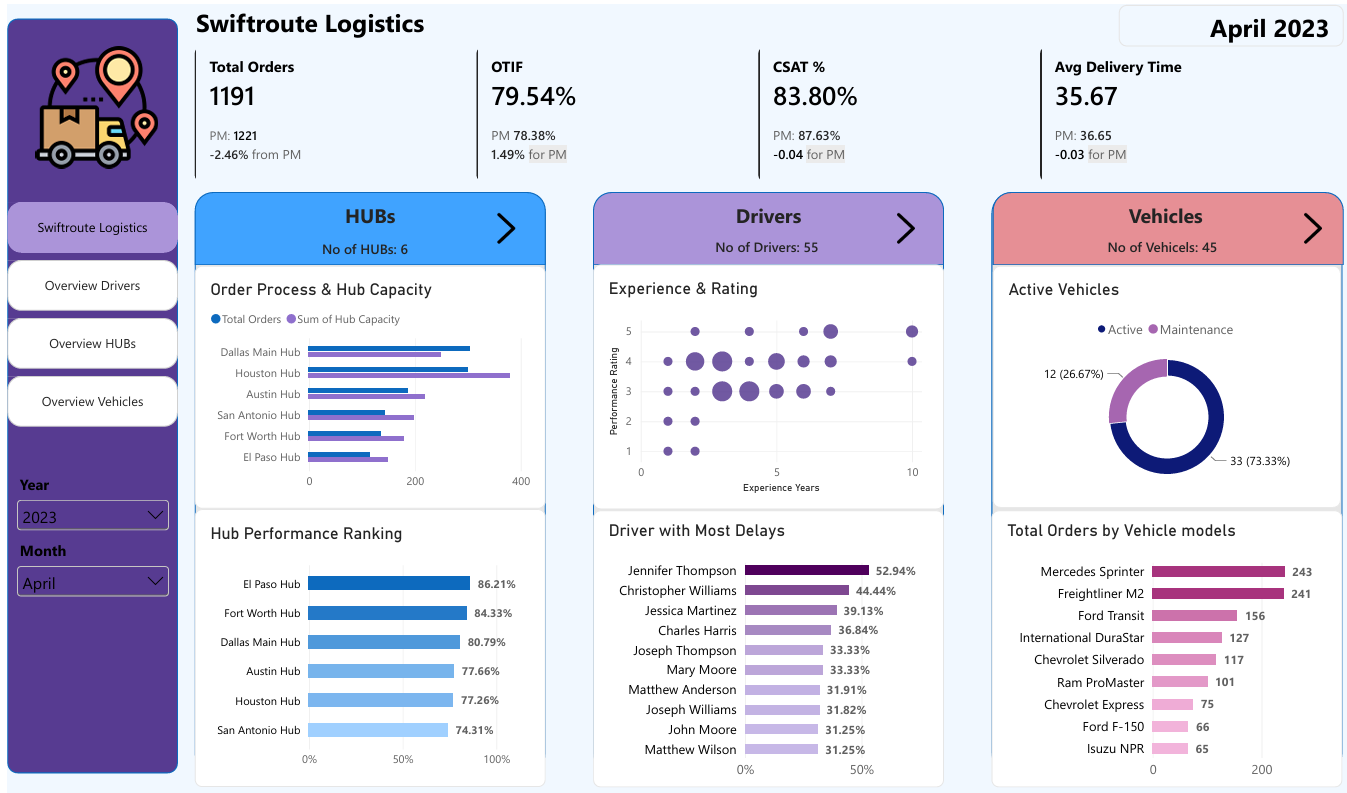

The page's visual inventory and layout, read from the dashboard file:
{"tool":"powerbi","page":{"name":"Swiftroute Logistics","canvas":[1450,850],"ordinal":0},"visuals":[{"type":"shape","box":[0,14.9,185,820],"z":0},{"type":"textbox","box":[204.8,0,248.2,44.8],"z":1000},{"type":"cardVisual","fields":{"Data":["Measure.Total Orders","Measure.OTIF","Measure.CSAT %","Measure.Avg delivery hour"]},"box":[203.4,44.8,1222.4,148.2],"z":2000},{"type":"slicer","fields":{"Values":["Date.Year"]},"box":[5.7,510,174.9,71.9],"z":3000},{"type":"slicer","fields":{"Values":["Date.Month"]},"box":[5.7,581.4,174.9,71.9],"z":4000},{"type":"shape","box":[203.7,203.7,381,632.4],"z":5000},{"type":"shape","box":[203.7,203.7,381,79.4],"z":6000},{"type":"textbox","box":[203.4,214.3,381.1,29.8],"z":7000},{"type":"cardVisual","fields":{"Data":["Measure.NO of Hubs"]},"box":[325.5,244.1,138.3,39.3],"z":8000},{"type":"clusteredBarChart","title":"Order Process & Hub Capacity","fields":{"Category":["Hubs.HubName"],"Y":["Measure.Total Orders","Sum(Hubs.Hub Capacity)"]},"box":[203.4,283.4,381.1,264.4],"z":9000},{"type":"barChart","title":"Hub Performance Ranking","fields":{"Category":["Hubs.HubName"],"Y":["Measure.OTIF"]},"box":[203.4,547.9,381.1,302.4],"z":10000},{"type":"shape","box":[636,203.4,381,632.4],"z":11000},{"type":"shape","title":"Experience & Rating","box":[1068.6,203.4,381,632.4],"z":12000},{"type":"shape","box":[636,203.4,381,79.4],"z":13000},{"type":"cardVisual","fields":{"Data":["Measure.No of Drivers"]},"box":[752.6,242.7,145.1,39.3],"z":14000},{"type":"textbox","box":[636,214.3,381.1,29.8],"z":15000},{"type":"scatterChart","title":"Experience & Rating","fields":{"Size":["Measure.driver count"],"X":["Drivers.Experience Years"],"Y":["Drivers.Performance Rating"]},"box":[636,282.1,381.1,265.8],"z":16000},{"type":"clusteredBarChart","title":"Driver with Most Delays","fields":{"Category":["Drivers.DriverName"],"Y":["Measure.% delayed"]},"box":[635.7,548.6,381.4,301.4],"z":17000},{"type":"shape","box":[1069.5,203.6,381,79.4],"z":18000},{"type":"textbox","box":[1067.3,214.3,381.1,29.8],"z":19000},{"type":"cardVisual","fields":{"Data":["Measure.No of Vehicles"]},"box":[1178.5,242.7,164.1,39.3],"z":20000},{"type":"donutChart","title":"Active Vehicles","fields":{"Category":["Vehicles.Vehicle Status"],"Y":["CountNonNull(Vehicles.Vehicle ID)"]},"box":[1070,283.4,378.4,263.1],"z":21000},{"type":"clusteredBarChart","title":"Total Orders by Vehicle models","fields":{"Category":["Vehicles.Vehicle Model"],"Y":["Measure.Total Orders"]},"box":[1068.6,548.6,381.4,301.4],"z":22000},{"type":"cardVisual","fields":{"Data":["Measure.Year Month tilte"]},"box":[1206.3,0,244.1,45.1],"z":23000},{"type":"image","box":[945.7,214.3,61.4,57.1],"z":24000},{"type":"image","box":[511.4,214.3,61.4,57.1],"z":25000},{"type":"image","box":[1387.3,214.3,61.4,57.1],"z":26000},{"type":"pageNavigator","box":[0,214.3,185.7,244.3],"z":27000},{"type":"image","box":[14.3,44.3,165.7,132.9],"z":28000}]}

Visuals, with their boxes in screenshot pixels (x1, y1, x2, y2), scaled from the page's 1450x850 canvas onto the 1347x793 screenshot:
shape: {"x1": 0, "y1": 14, "x2": 172, "y2": 779}
textbox: {"x1": 190, "y1": 0, "x2": 421, "y2": 42}
cardVisual - Measure.Total Orders x Measure.OTIF: {"x1": 189, "y1": 42, "x2": 1325, "y2": 180}
slicer - Date.Year: {"x1": 5, "y1": 476, "x2": 168, "y2": 543}
slicer - Date.Month: {"x1": 5, "y1": 542, "x2": 168, "y2": 609}
shape: {"x1": 189, "y1": 190, "x2": 543, "y2": 780}
shape: {"x1": 189, "y1": 190, "x2": 543, "y2": 264}
textbox: {"x1": 189, "y1": 200, "x2": 543, "y2": 228}
cardVisual - Measure.NO of Hubs: {"x1": 302, "y1": 228, "x2": 431, "y2": 264}
"Order Process & Hub Capacity" clusteredBarChart: {"x1": 189, "y1": 264, "x2": 543, "y2": 511}
"Hub Performance Ranking" barChart: {"x1": 189, "y1": 511, "x2": 543, "y2": 792}
shape: {"x1": 591, "y1": 190, "x2": 945, "y2": 780}
"Experience & Rating" shape: {"x1": 993, "y1": 190, "x2": 1346, "y2": 780}
shape: {"x1": 591, "y1": 190, "x2": 945, "y2": 264}
cardVisual - Measure.No of Drivers: {"x1": 699, "y1": 226, "x2": 834, "y2": 263}
textbox: {"x1": 591, "y1": 200, "x2": 945, "y2": 228}
"Experience & Rating" scatterChart: {"x1": 591, "y1": 263, "x2": 945, "y2": 511}
"Driver with Most Delays" clusteredBarChart: {"x1": 591, "y1": 512, "x2": 945, "y2": 792}
shape: {"x1": 994, "y1": 190, "x2": 1346, "y2": 264}
textbox: {"x1": 991, "y1": 200, "x2": 1346, "y2": 228}
cardVisual - Measure.No of Vehicles: {"x1": 1095, "y1": 226, "x2": 1247, "y2": 263}
"Active Vehicles" donutChart: {"x1": 994, "y1": 264, "x2": 1346, "y2": 510}
"Total Orders by Vehicle models" clusteredBarChart: {"x1": 993, "y1": 512, "x2": 1346, "y2": 792}
cardVisual - Measure.Year Month tilte: {"x1": 1121, "y1": 0, "x2": 1346, "y2": 42}
image: {"x1": 879, "y1": 200, "x2": 936, "y2": 253}
image: {"x1": 475, "y1": 200, "x2": 532, "y2": 253}
image: {"x1": 1289, "y1": 200, "x2": 1346, "y2": 253}
pageNavigator: {"x1": 0, "y1": 200, "x2": 173, "y2": 428}
image: {"x1": 13, "y1": 41, "x2": 167, "y2": 165}
